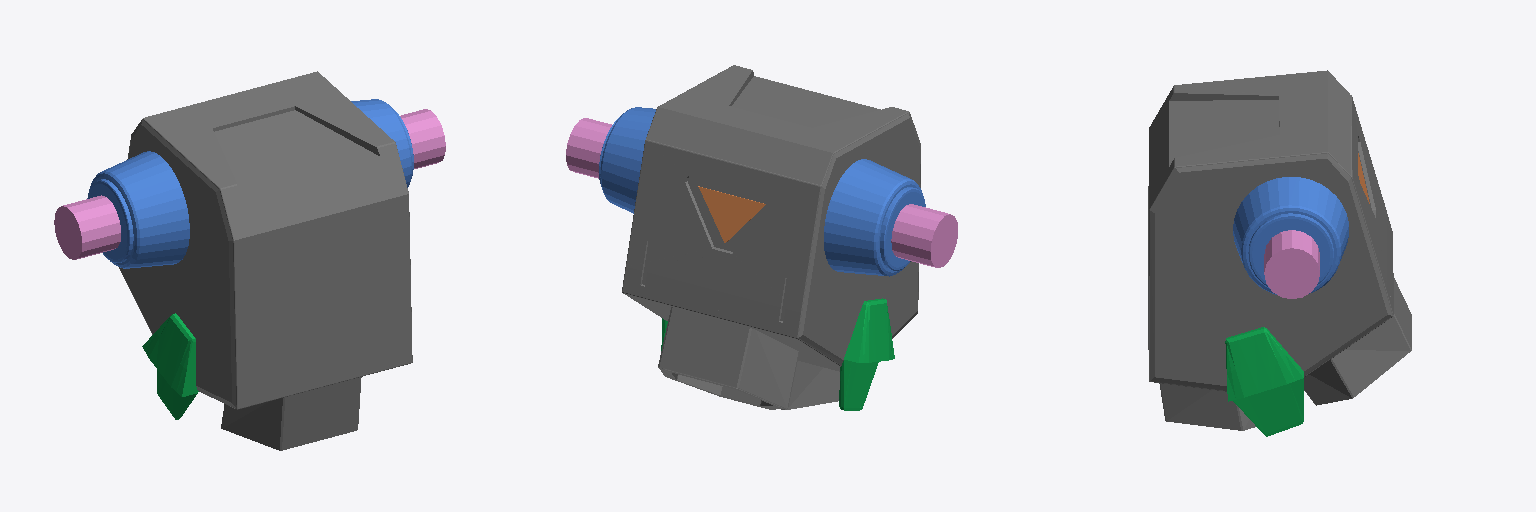
File: wingBase.obj
3 renders of one model, left to right at view 1: azimuth 30°, elevation 25°; view 2: azimuth 150°, elevation 25°; view 3: azimuth 270°, elevation 25°, orthographic.
Parts seen in each view (by area): view 1: wingBase freedom:ChafCaja14, wingBase freedom:ChafCil04, wingBase freedom:Gengon07, wingBase freedom:ChafCaja31, wingBase freedom:Cilindro05, freedom:Cilindro06 wingBase, wingBase freedom:ChafCil08, wingBase freedom:ChafCil03; view 2: wingBase freedom:ChafCaja14, wingBase freedom:Gengon06, wingBase freedom:ChafCil04, wingBase freedom:ChafCaja31, wingBase freedom:ChafCil08, wingBase freedom:Cilindro05, freedom:Cilindro06 wingBase, wingBase freedom:Gengon07, wingBase freedom:Gengon05, wingBase freedom:ChafCil03; view 3: wingBase freedom:ChafCaja14, wingBase freedom:ChafCaja21, wingBase freedom:ChafCil08, wingBase freedom:Gengon06, freedom:Cilindro06 wingBase, wingBase freedom:Gengon07, wingBase freedom:ChafCil01.
Boxes of the visible parts, x1,y1,x2,y2 form: wingBase freedom:ChafCaja14: [119, 71, 412, 409]; wingBase freedom:ChafCil04: [90, 151, 189, 268]; wingBase freedom:Gengon07: [221, 377, 361, 450]; wingBase freedom:ChafCaja31: [142, 313, 198, 419]; wingBase freedom:Cilindro05: [54, 195, 120, 259]; freedom:Cilindro06 wingBase: [400, 109, 445, 168]; wingBase freedom:ChafCil08: [351, 99, 411, 187]; wingBase freedom:ChafCil03: [87, 179, 133, 262]; wingBase freedom:ChafCaja14: [622, 65, 920, 371]; wingBase freedom:Gengon06: [658, 307, 798, 409]; wingBase freedom:ChafCil04: [824, 159, 922, 276]; wingBase freedom:ChafCaja31: [839, 298, 894, 410]; wingBase freedom:ChafCil08: [600, 107, 655, 213]; wingBase freedom:Cilindro05: [891, 204, 957, 267]; freedom:Cilindro06 wingBase: [566, 118, 611, 178]; wingBase freedom:Gengon07: [781, 361, 839, 409]; wingBase freedom:Gengon05: [698, 186, 765, 242]; wingBase freedom:ChafCil03: [880, 187, 925, 270]; wingBase freedom:ChafCaja14: [1148, 70, 1393, 391]; wingBase freedom:ChafCaja21: [1225, 327, 1303, 436]; wingBase freedom:ChafCil08: [1233, 177, 1348, 294]; wingBase freedom:Gengon06: [1304, 278, 1411, 405]; freedom:Cilindro06 wingBase: [1264, 230, 1319, 298]; wingBase freedom:Gengon07: [1159, 383, 1255, 430]; wingBase freedom:ChafCil01: [1248, 213, 1333, 286].
Size of the model in its own units: 25.58 by 19.53 by 15.99.